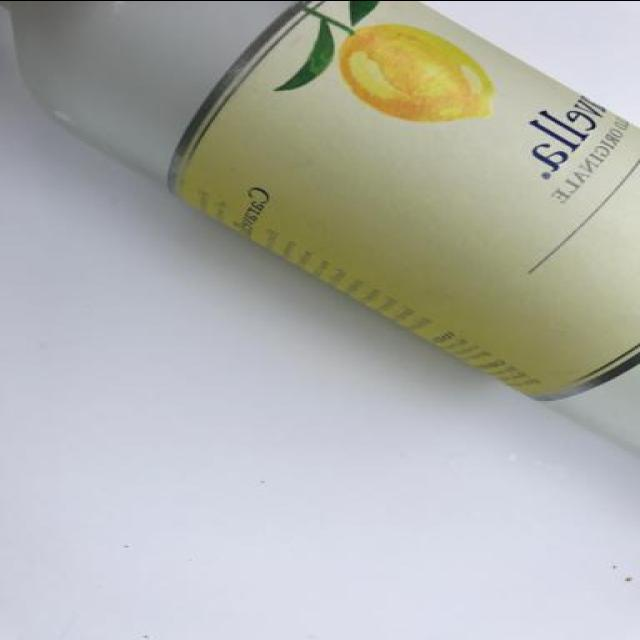glass: (0, 0, 640, 485)
